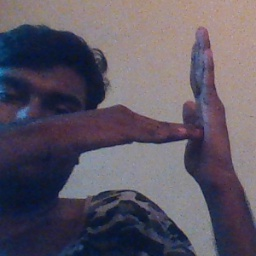Z: (121, 25, 234, 183)
